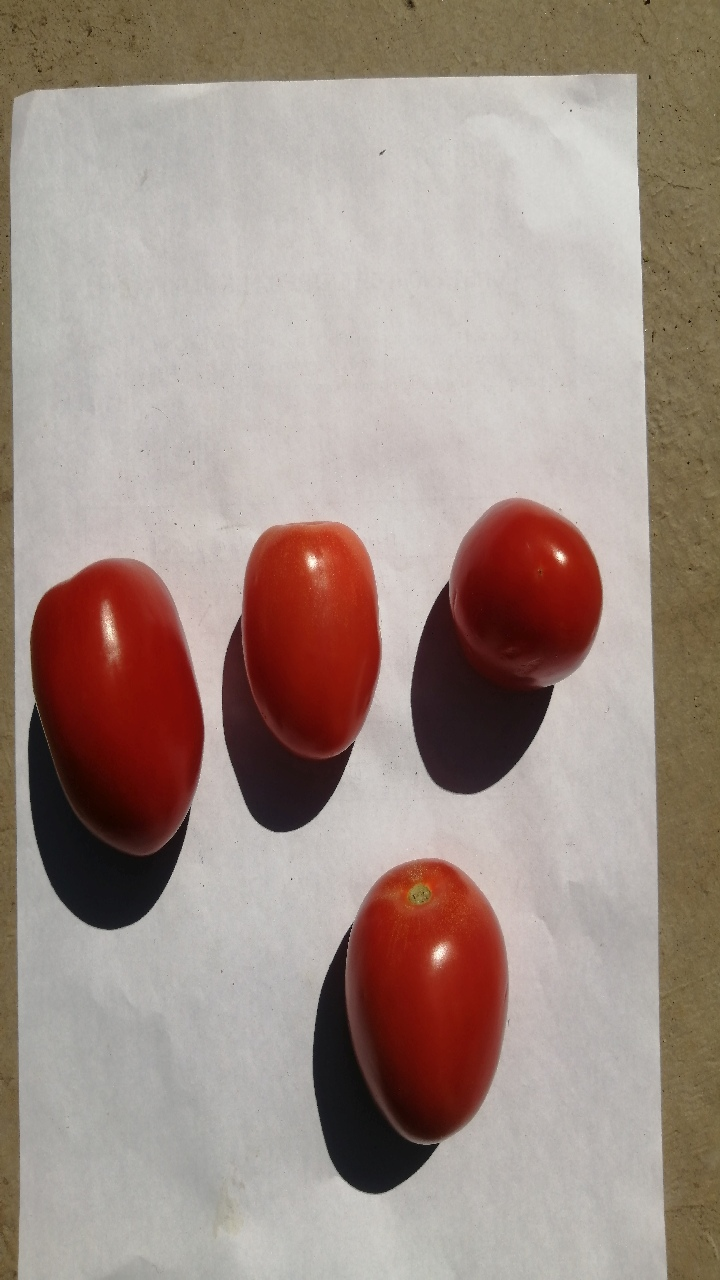tomateRojo: (18, 554, 220, 872), (328, 843, 524, 1152), (224, 500, 389, 765), (438, 477, 609, 711)
